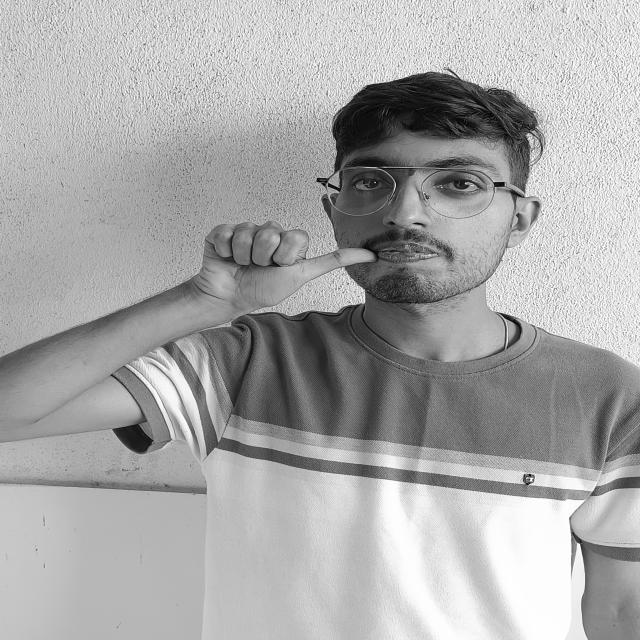Drink: (176, 201, 397, 332)
